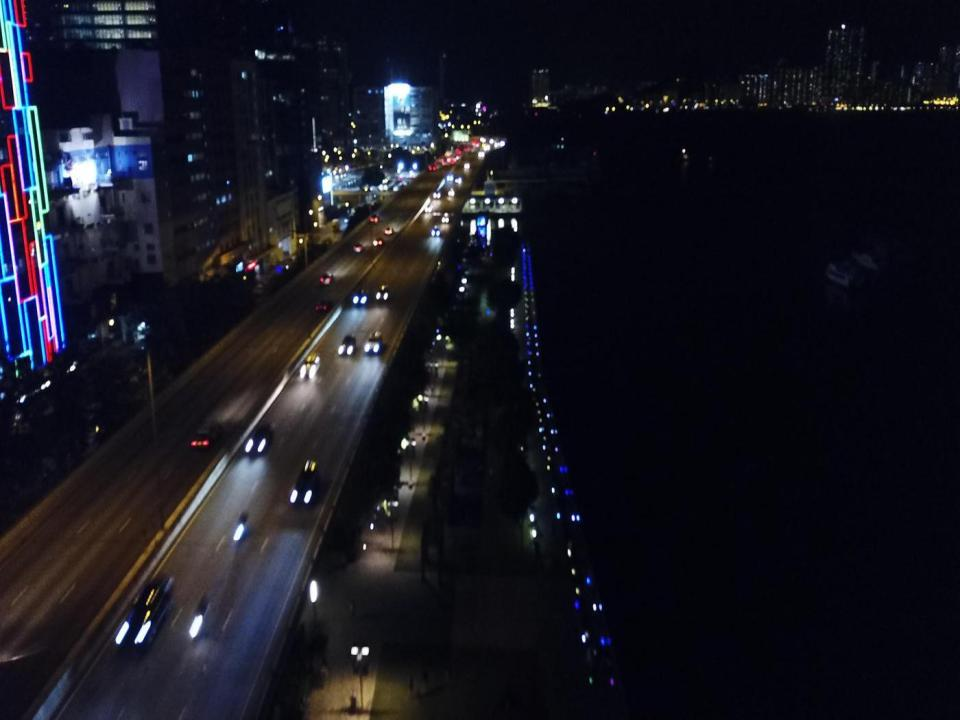car: (117, 573, 174, 650), (290, 461, 319, 506), (245, 424, 275, 455), (190, 425, 218, 451), (300, 354, 322, 379), (365, 330, 387, 355), (338, 334, 358, 358), (352, 286, 373, 306), (376, 283, 394, 301), (315, 297, 334, 314), (318, 270, 334, 283), (372, 234, 385, 249), (353, 241, 366, 254), (384, 224, 394, 237), (431, 224, 440, 238), (370, 211, 380, 223), (441, 213, 450, 222), (433, 188, 441, 198), (455, 176, 465, 184), (446, 172, 454, 182), (425, 203, 433, 212), (448, 188, 456, 197)
